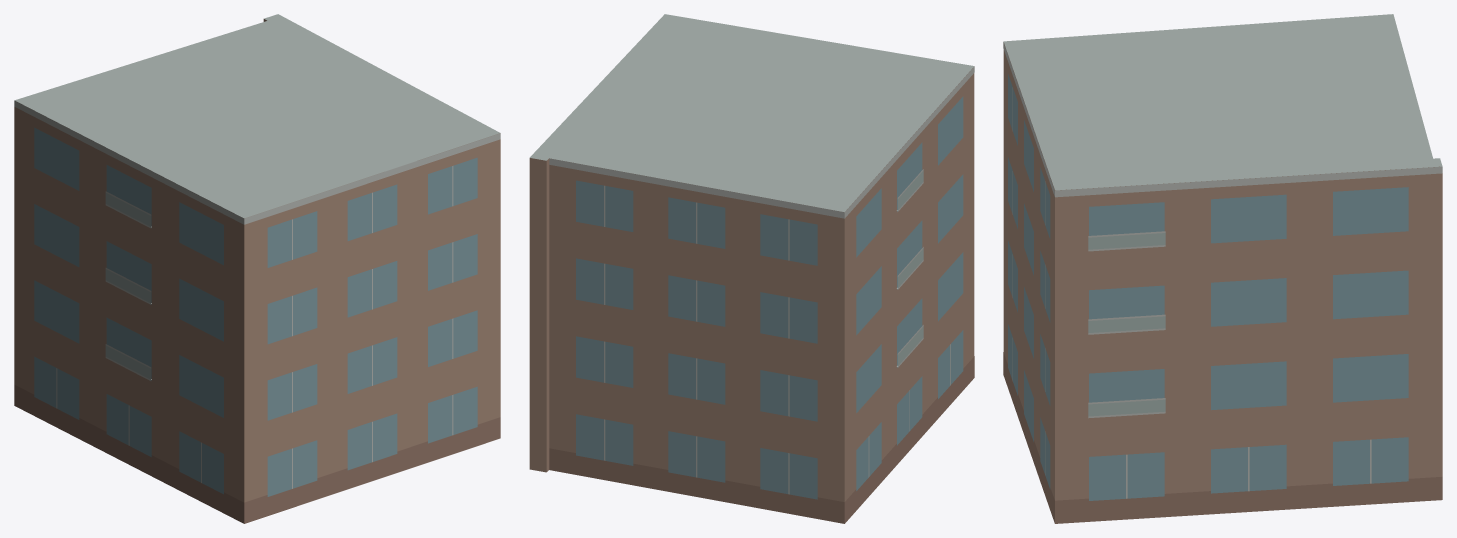
The model's file is survey-upis-32926200.glb.
3 renders of one model, left to right at view 1: azimuth 30°, elevation 25°; view 2: azimuth 150°, elevation 25°; view 3: azimuth 270°, elevation 25°, orthographic. The views are drawn at different scales.
Parts seen in each view (by area): view 1: survey-upis-32926200.tmp; view 2: survey-upis-32926200.tmp; view 3: survey-upis-32926200.tmp.
Boxes of the visible parts, x1,y1,x2,y2 form: survey-upis-32926200.tmp: [14, 14, 500, 523]; survey-upis-32926200.tmp: [529, 14, 974, 523]; survey-upis-32926200.tmp: [1003, 14, 1442, 523].
Size of the model in its own units: 13.4 by 11.8 by 14.09.
